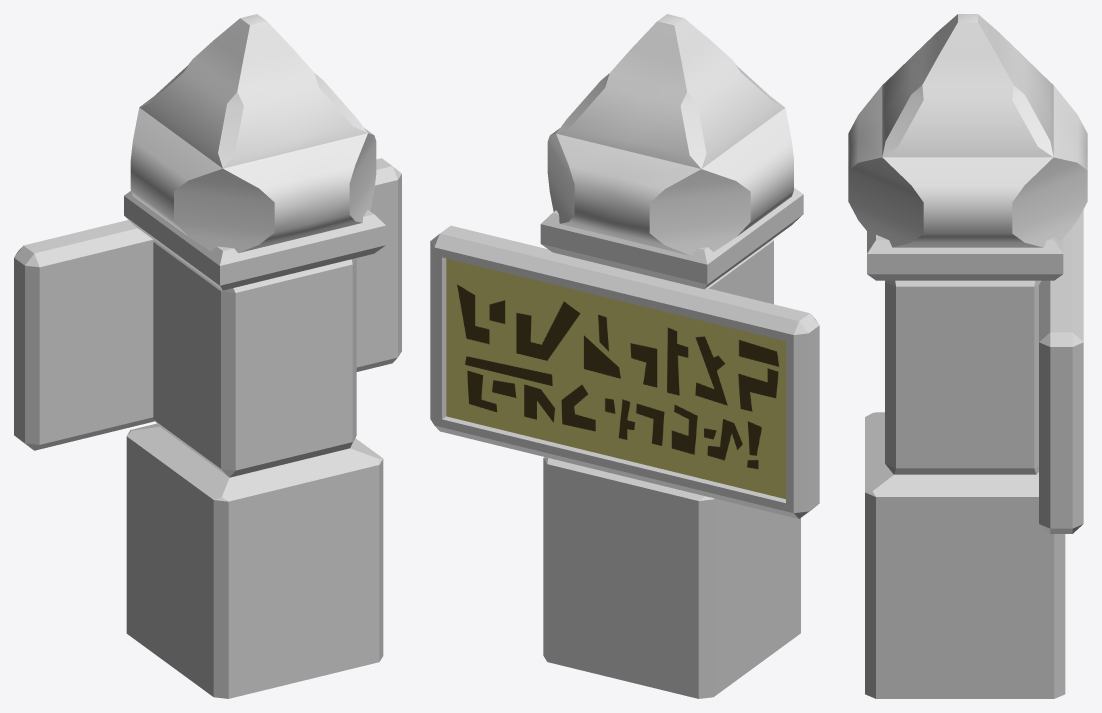
Rendered from SM_sign.fbx.
The picture shows the model from 3 angles, left to right: view 1: azimuth 30°, elevation 25°; view 2: azimuth 150°, elevation 25°; view 3: azimuth 270°, elevation 25°; orthographic projection. The views are drawn at different scales.
Parts seen in each view (by area): view 1: Cube.004; view 2: Cube.004; view 3: Cube.004.
Part boxes in pixels (x1,y1,x2,y2): Cube.004: (14,14,401,698); Cube.004: (430,14,819,698); Cube.004: (848,14,1087,698).
Bounding box in the file's own units: 2 × 1.07 × 3.17.
